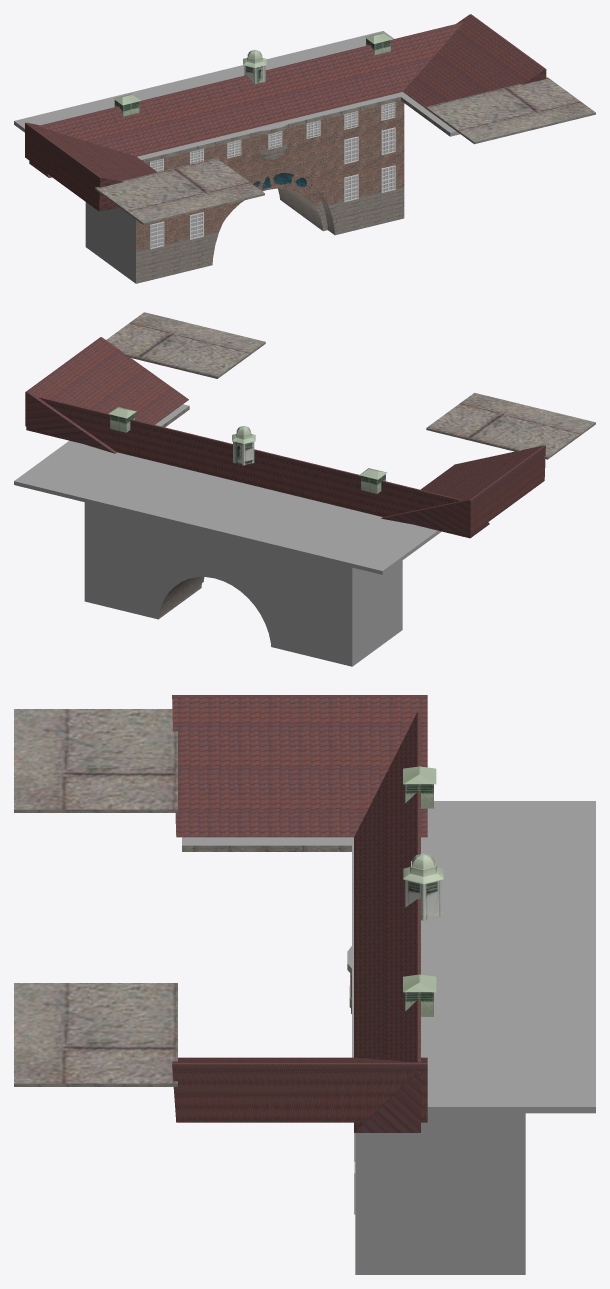
Rendered from KTHMiddlePart.fbx.
3 views of the same model, one above another, from view 1: azimuth 30°, elevation 25°; view 2: azimuth 150°, elevation 25°; view 3: azimuth 270°, elevation 25° (orthographic). The views are drawn at different scales.
Visible parts, largest first — view 1: polySurface57, pCube901, pCube925, pCube926, pCube930, pCube929, pCube924, pCylinder16, pCube931, pCube933, pPlane2; view 2: polySurface57, pCube926, pCube901, pCube925, pCube924, pCube930, pCube929, pCylinder16, pCube931, pCube933; view 3: pCube926, pCube924, polySurface57, pCube901, pCube929, pCube930, pCube925, pCylinder16, pCube931, pCube933.
Boxes of the visible parts, x1=… form: polySurface57: x1=85, y1=100, x2=404, y2=283; pCube901: x1=29, y1=22, x2=462, y2=177; pCube925: x1=403, y1=14, x2=546, y2=108; pCube926: x1=14, y1=31, x2=459, y2=162; pCube930: x1=95, y1=158, x2=264, y2=224; pCube929: x1=426, y1=77, x2=595, y2=144; pCube924: x1=25, y1=122, x2=157, y2=211; pCylinder16: x1=243, y1=50, x2=266, y2=84; pCube931: x1=113, y1=93, x2=141, y2=116; pCube933: x1=364, y1=32, x2=392, y2=54; pPlane2: x1=253, y1=173, x2=312, y2=189; polySurface57: x1=84, y1=502, x2=402, y2=666; pCube926: x1=14, y1=404, x2=441, y2=574; pCube901: x1=26, y1=397, x2=489, y2=538; pCube925: x1=25, y1=337, x2=188, y2=453; pCube924: x1=381, y1=445, x2=545, y2=534; pCube930: x1=426, y1=392, x2=595, y2=459; pCube929: x1=106, y1=312, x2=265, y2=378; pCylinder16: x1=232, y1=426, x2=255, y2=465; pCube931: x1=359, y1=468, x2=387, y2=493; pCube933: x1=108, y1=407, x2=136, y2=432; pCube926: x1=182, y1=801, x2=595, y2=1113; pCube924: x1=172, y1=695, x2=427, y2=837; polySurface57: x1=350, y1=974, x2=525, y2=1274; pCube901: x1=354, y1=711, x2=420, y2=1132; pCube929: x1=14, y1=983, x2=177, y2=1086; pCube930: x1=14, y1=709, x2=177, y2=812; pCube925: x1=172, y1=1057, x2=427, y2=1122; pCylinder16: x1=403, y1=853, x2=443, y2=920; pCube931: x1=403, y1=766, x2=436, y2=808; pCube933: x1=403, y1=974, x2=436, y2=1016.
Size of the model in its own units: 86.21 by 33.62 by 56.6.
